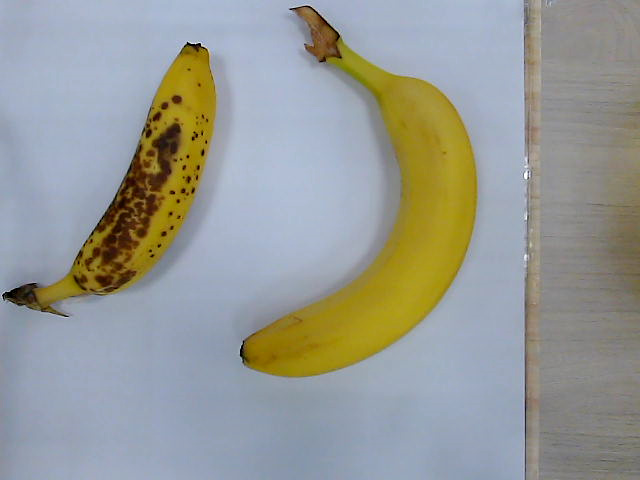fresh_banana: (238, 8, 479, 377)
rotten_banana: (5, 41, 217, 313)
